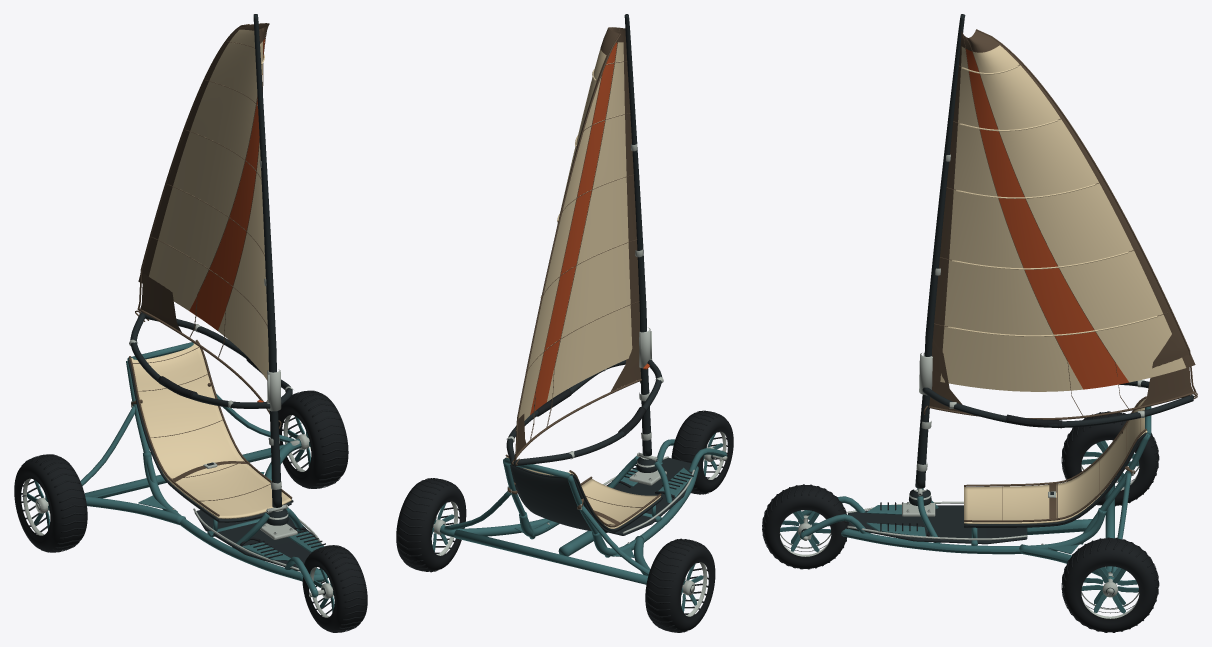
Rendered from sand_sail_kart.glb.
3 renders of one model, left to right at view 1: azimuth 30°, elevation 25°; view 2: azimuth 150°, elevation 25°; view 3: azimuth 270°, elevation 25°, orthographic. The views are drawn at different scales.
Visible parts, largest first — view 1: Cambered_Canvas_Sail, Chassis_Canvas, Chassis_Frame, Rig_Dark, Wheel_Rear_L_Rubber, Wheel_Rear_R_Rubber, Wheel_Front_Rubber, Rig_Web, Chassis_Dark, Chassis_Web, Chassis_Metal, Rig_Metal; view 2: Cambered_Canvas_Sail, Chassis_Frame, Chassis_Dark, Wheel_Rear_L_Rubber, Wheel_Rear_R_Rubber, Rig_Dark, Rig_Web, Wheel_Front_Rubber, Chassis_Canvas, Chassis_Metal, Rig_Metal, Rig_Rubber (+1 smaller); view 3: Cambered_Canvas_Sail, Chassis_Frame, Chassis_Canvas, Rig_Web, Wheel_Rear_R_Rubber, Rig_Dark, Chassis_Dark, Wheel_Front_Rubber, Wheel_Rear_L_Rubber, Chassis_Web, Rig_Canvas, Chassis_Metal (+3 smaller).
Part boxes in pixels (box(x1,y1,x2,y2)): Cambered_Canvas_Sail: box(138, 23, 269, 380); Chassis_Canvas: box(129, 343, 291, 518); Chassis_Frame: box(80, 342, 328, 597); Rig_Dark: box(130, 14, 292, 507); Wheel_Rear_L_Rubber: box(14, 454, 87, 552); Wheel_Rear_R_Rubber: box(278, 390, 348, 488); Wheel_Front_Rubber: box(302, 545, 367, 632); Rig_Web: box(135, 24, 281, 428); Chassis_Dark: box(127, 358, 316, 571); Chassis_Web: box(129, 340, 292, 516); Chassis_Metal: box(36, 401, 325, 598); Rig_Metal: box(129, 160, 293, 489); Cambered_Canvas_Sail: box(515, 27, 639, 432); Chassis_Frame: box(440, 439, 727, 584); Chassis_Dark: box(504, 457, 692, 542); Wheel_Rear_L_Rubber: box(645, 538, 715, 632); Wheel_Rear_R_Rubber: box(396, 478, 466, 572); Rig_Dark: box(506, 14, 662, 466); Rig_Web: box(511, 27, 641, 465); Wheel_Front_Rubber: box(671, 410, 733, 494); Chassis_Canvas: box(506, 457, 660, 528); Chassis_Metal: box(433, 451, 727, 591); Rig_Metal: box(506, 144, 663, 459); Rig_Rubber: box(536, 389, 646, 436); Cambered_Canvas_Sail: box(932, 30, 1195, 391); Chassis_Frame: box(799, 406, 1151, 579); Chassis_Canvas: box(964, 399, 1147, 523); Rig_Web: box(923, 29, 1197, 419); Wheel_Rear_R_Rubber: box(1061, 537, 1159, 632); Rig_Dark: box(915, 14, 1193, 488); Chassis_Dark: box(848, 432, 1146, 544); Wheel_Front_Rubber: box(762, 484, 848, 569); Wheel_Rear_L_Rubber: box(1061, 411, 1159, 506); Chassis_Web: box(964, 396, 1146, 522); Rig_Canvas: box(947, 65, 1157, 336); Chassis_Metal: box(800, 469, 1133, 594).
Bounding box in the file's own units: 2.23 × 4.04 × 2.89.
